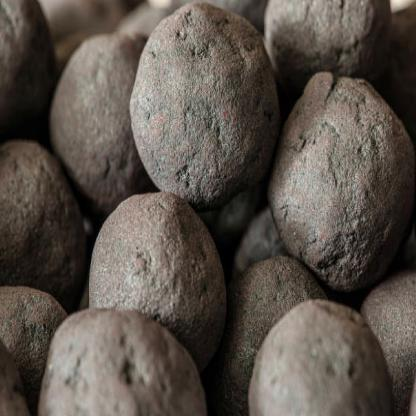Sedimentary_Limestone: (271, 61, 415, 296), (128, 3, 294, 200), (90, 187, 240, 357), (238, 282, 393, 415), (31, 310, 220, 415), (0, 138, 92, 307)
